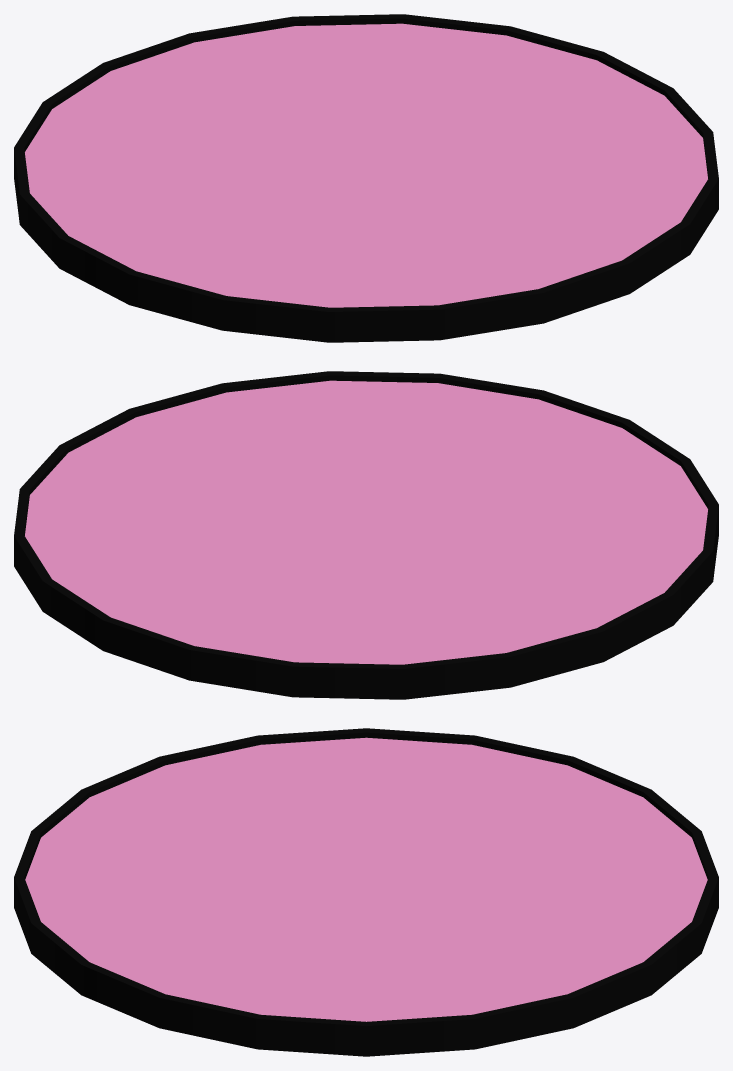
File: horloge.FBX
3 views of the same model, one above another, from view 1: azimuth 30°, elevation 25°; view 2: azimuth 150°, elevation 25°; view 3: azimuth 270°, elevation 25° (orthographic).
Parts seen in each view (by area): view 1: verre, horloge; view 2: verre, horloge; view 3: verre, horloge.
Part boxes in pixels (x1,y1,x2,y2): verre: [25, 23, 707, 307]; horloge: [14, 14, 718, 342]; verre: [25, 380, 707, 664]; horloge: [14, 371, 718, 699]; verre: [25, 737, 707, 1021]; horloge: [14, 728, 718, 1056].
Size of the model in its own units: 10.07 by 0.481 by 10.07.
